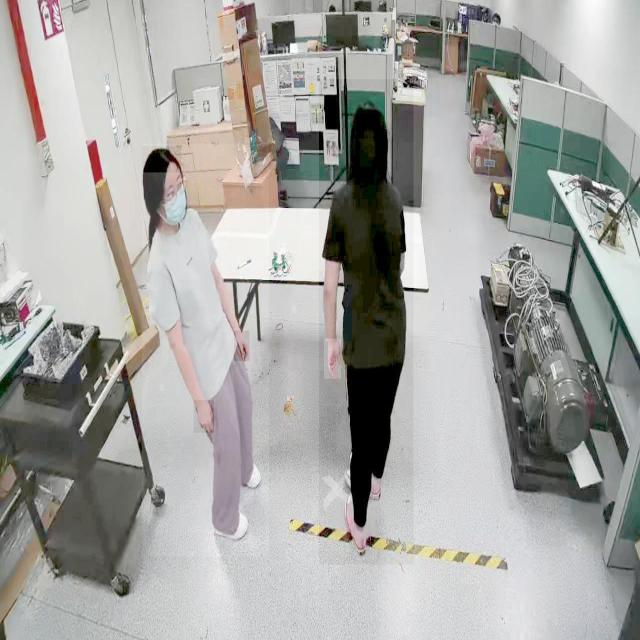face_mask: (164, 180, 191, 231)
glasses: (164, 175, 188, 210)
hand_noglove: (324, 338, 342, 379), (193, 400, 214, 434), (234, 331, 250, 362)
head_nohelmet: (350, 100, 388, 140), (142, 146, 182, 173)
person: (142, 144, 270, 557), (319, 79, 414, 565)
shoes: (343, 489, 370, 561), (340, 460, 385, 503), (210, 502, 250, 545), (239, 456, 263, 490)
